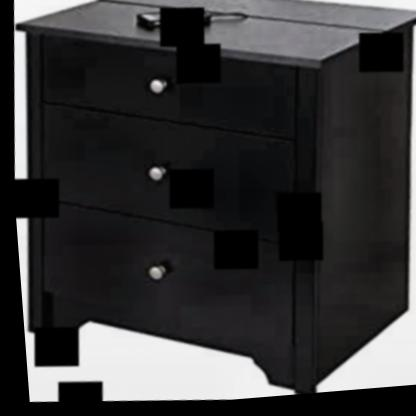Nightstand: (0, 0, 416, 380)
